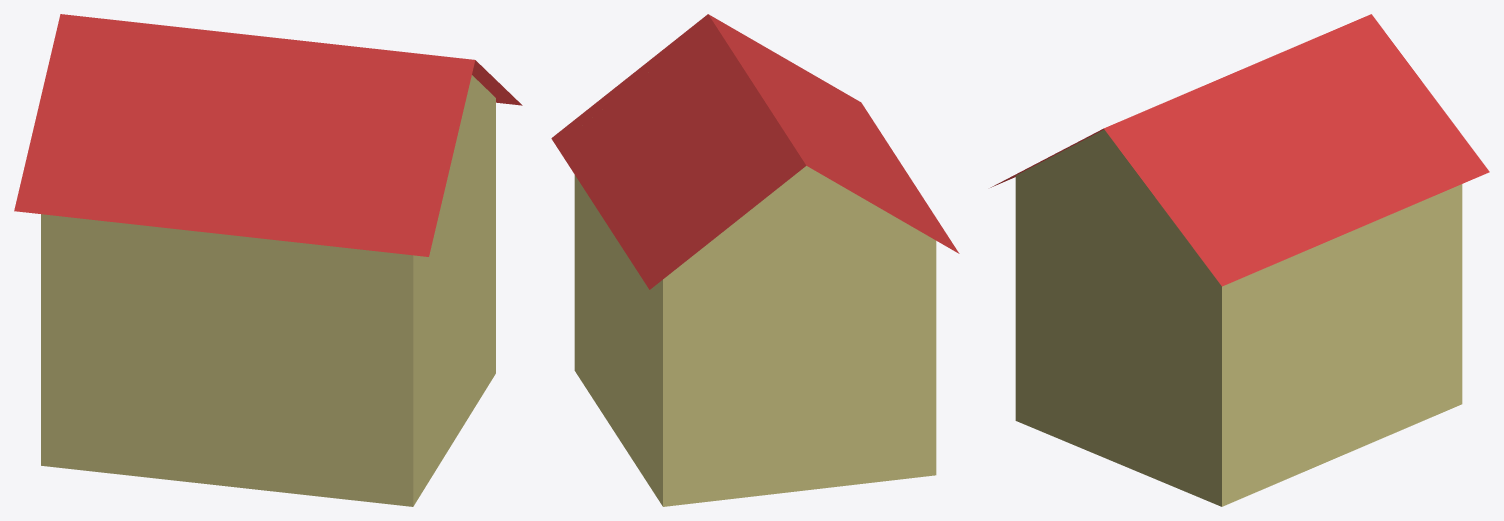
3 views of the same model, side by side, from view 1: azimuth 30°, elevation 25°; view 2: azimuth 150°, elevation 25°; view 3: azimuth 270°, elevation 25° (orthographic). The views are drawn at different scales.
Size of the model in its own units: 19.19 by 19.18 by 14.37.
